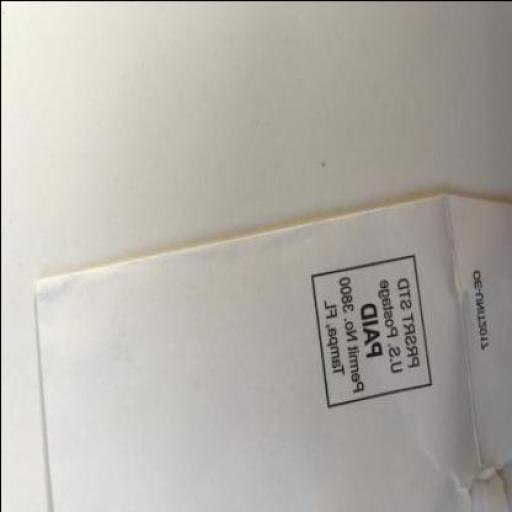cardboard: (32, 192, 512, 511)
paper: (33, 192, 512, 511)
